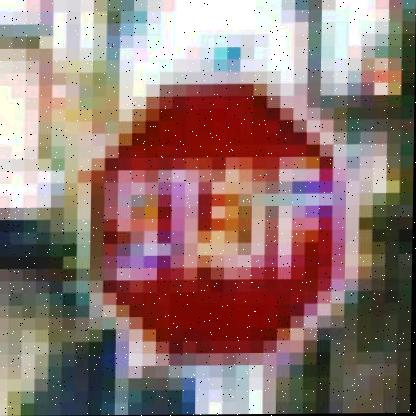Stop Sign: (81, 66, 366, 367)
